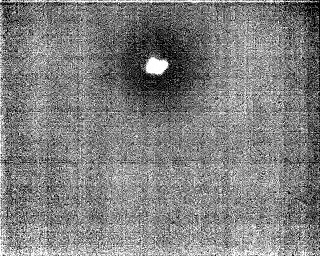AIRPLANE: (142, 52, 170, 78)
